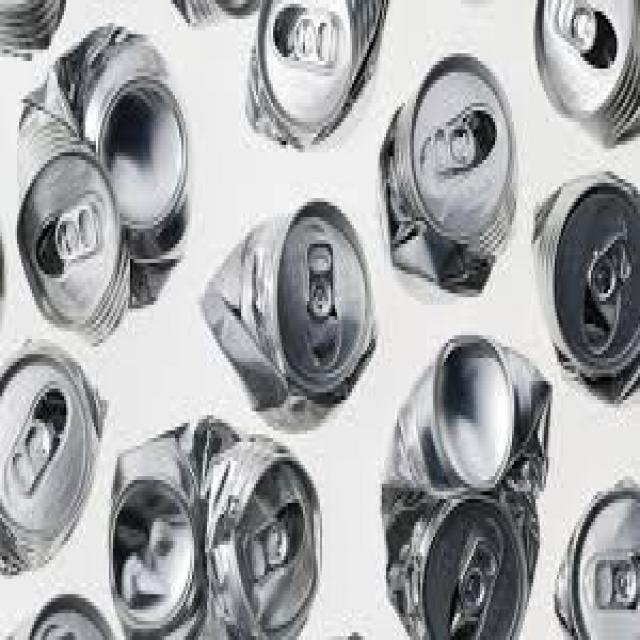recyclable: (15, 23, 192, 349), (381, 336, 552, 640), (108, 415, 322, 640), (200, 200, 380, 436), (377, 54, 520, 295), (0, 337, 107, 579), (532, 170, 640, 407), (245, 0, 389, 152), (533, 0, 640, 145), (554, 468, 640, 636)
